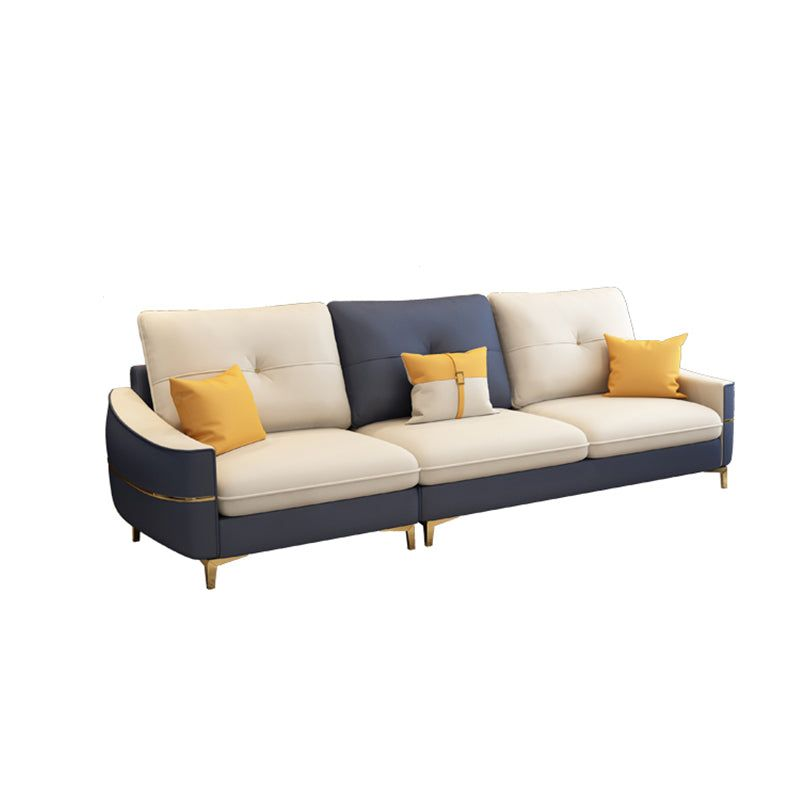3seatersofa: (106, 288, 734, 588)
backrest: (140, 288, 632, 432)
base: (221, 445, 714, 551)
leftarmrest: (680, 370, 733, 465)
leg: (201, 556, 243, 589), (421, 517, 456, 546), (711, 467, 727, 488), (403, 526, 414, 549), (132, 527, 139, 541)
pillow: (170, 365, 265, 454), (402, 346, 494, 423), (606, 333, 687, 397)
rightarmrest: (106, 389, 217, 555)
seat: (217, 395, 720, 516)
